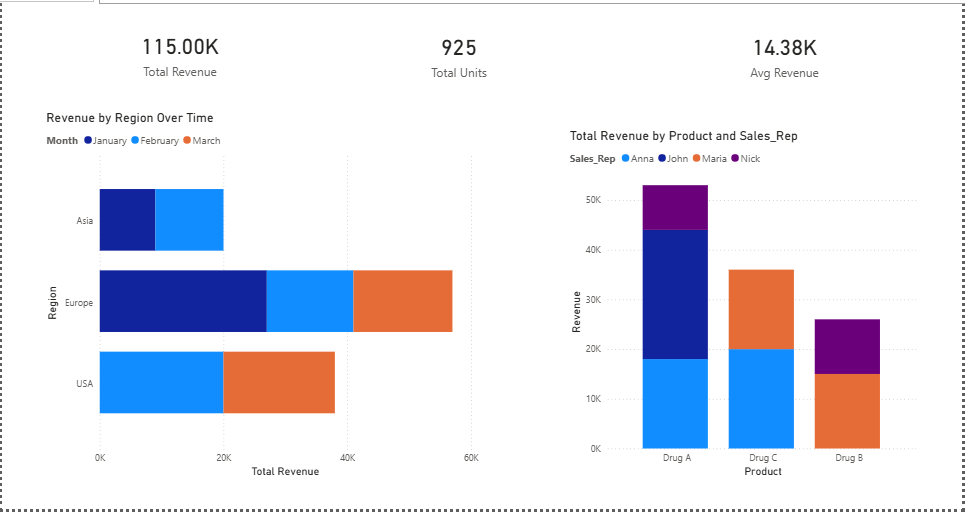

The dashboard page shown, as its layout file describes it:
{"tool":"powerbi","page":{"name":"Page 2","canvas":[1280,720],"ordinal":1},"visuals":[{"type":"columnChart","title":"Revenue by Product by Sales_Rep","fields":{"Category":["pharma_sales.Product","pharma_sales.Product Hierarchy.Product"],"Y":["Sum(pharma_sales.Revenue)"],"Series":["pharma_sales.Sales_Rep"]},"box":[113.4,187.1,580.2,491.3],"z":0},{"type":"card","fields":{"Values":["pharma_sales.Total Revenue"]},"box":[0,36,474,150],"z":1000},{"type":"card","fields":{"Values":["pharma_sales.Total Units"]},"box":[404.4,37.8,474.3,149.3],"z":2000},{"type":"card","fields":{"Values":["pharma_sales.Avg Revenue"]},"box":[806,38,474,150],"z":3000},{"type":"textbox","box":[738.9,359.1,374.2,309.9],"z":3001}]}

Visuals, with their boxes on the page's 1280x720 design canvas (x1, y1, x2, y2). These are canvas units, not pixel positions in the 965x512 screenshot, which may show the page scaled, cropped or inside an application window:
"Revenue by Product by Sales_Rep" columnChart: pyautogui.locateOnScreen(113, 187, 694, 678)
card - pharma_sales.Total Revenue: pyautogui.locateOnScreen(0, 36, 474, 186)
card - pharma_sales.Total Units: pyautogui.locateOnScreen(404, 38, 879, 187)
card - pharma_sales.Avg Revenue: pyautogui.locateOnScreen(806, 38, 1280, 188)
textbox: pyautogui.locateOnScreen(739, 359, 1113, 669)
